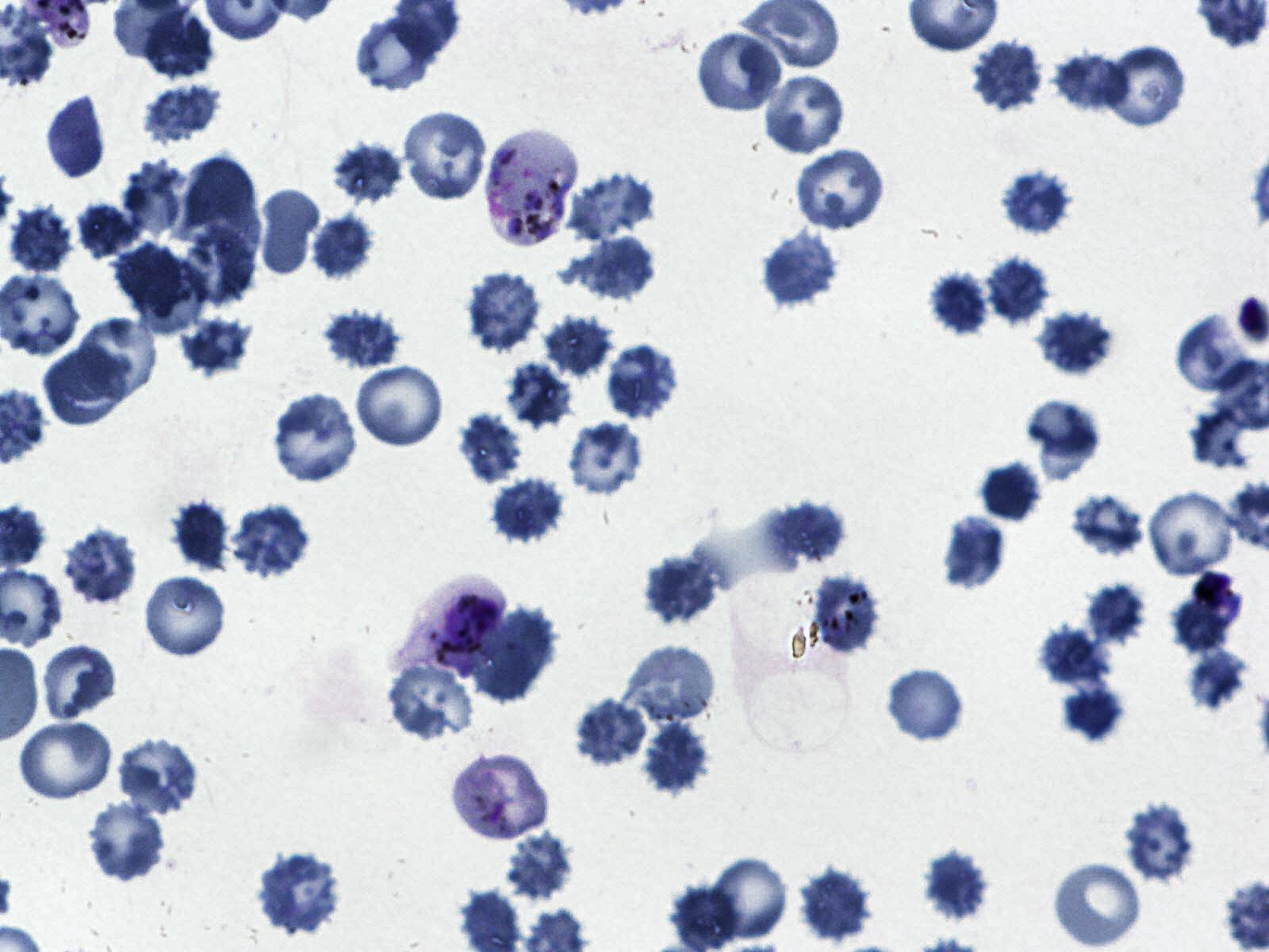Infected: (393, 571, 510, 679), (483, 129, 578, 246), (449, 751, 550, 845)
Uninfected: (471, 605, 561, 704), (18, 717, 115, 803), (353, 361, 447, 448), (1148, 488, 1238, 578), (273, 391, 360, 484), (1052, 862, 1142, 949), (795, 148, 887, 232), (759, 71, 849, 156), (696, 29, 787, 113), (705, 855, 792, 942), (402, 109, 485, 200), (626, 643, 718, 725), (384, 662, 477, 743), (142, 574, 227, 660), (115, 734, 202, 818), (256, 852, 343, 935), (85, 799, 168, 882), (181, 221, 259, 309), (38, 641, 120, 724), (1103, 44, 1186, 126), (228, 500, 312, 581), (43, 344, 125, 425), (1025, 397, 1103, 481), (565, 171, 657, 242), (804, 570, 879, 657), (1118, 800, 1192, 888), (185, 159, 259, 247), (559, 236, 659, 301), (762, 228, 842, 309), (75, 317, 155, 397), (567, 420, 648, 499), (466, 271, 545, 352), (254, 188, 320, 282), (358, 16, 440, 91), (135, 255, 210, 336), (107, 242, 187, 316), (63, 528, 140, 604), (965, 40, 1045, 113), (573, 695, 654, 767), (799, 865, 873, 942), (767, 496, 845, 569), (121, 157, 190, 239), (141, 6, 217, 80), (485, 474, 564, 545), (1177, 314, 1248, 393), (642, 716, 711, 797), (1029, 310, 1116, 374), (890, 666, 962, 743), (1054, 46, 1133, 115), (48, 90, 105, 185), (140, 82, 222, 148), (500, 363, 577, 432), (938, 517, 1008, 592), (643, 556, 719, 625), (1037, 621, 1114, 689), (987, 251, 1055, 327), (996, 169, 1073, 236), (606, 344, 675, 418), (457, 411, 527, 483), (178, 314, 254, 378), (320, 309, 402, 368), (310, 211, 377, 282), (926, 848, 990, 922), (332, 144, 412, 203), (169, 497, 230, 574), (1081, 577, 1148, 647), (10, 206, 78, 274), (1073, 493, 1144, 558), (1061, 676, 1125, 746), (544, 316, 612, 380), (926, 267, 989, 336), (980, 459, 1045, 524), (508, 835, 572, 900), (73, 202, 142, 261), (1168, 597, 1233, 657), (1189, 408, 1251, 469), (1187, 647, 1245, 708)
